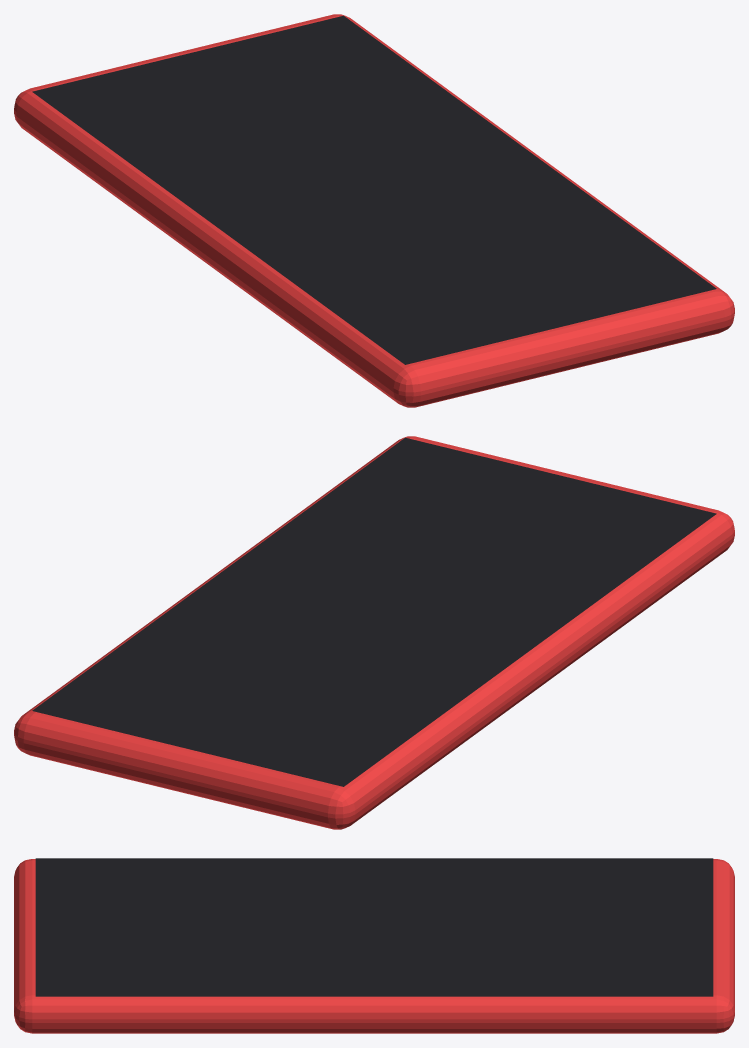
File: Phone_128.glb
The picture shows the model from 3 angles, top to bottom: view 1: azimuth 30°, elevation 25°; view 2: azimuth 150°, elevation 25°; view 3: azimuth 270°, elevation 25°; orthographic projection. The views are drawn at different scales.
Parts seen in each view (by area): view 1: Phone_Screen, Phone_Body; view 2: Phone_Screen, Phone_Body; view 3: Phone_Screen, Phone_Body.
Part boxes in pixels (box(x1,y1,x2,y2)): Phone_Screen: box(32, 15, 716, 364); Phone_Body: box(14, 14, 734, 407); Phone_Screen: box(32, 437, 716, 786); Phone_Body: box(14, 436, 734, 829); Phone_Screen: box(35, 858, 713, 996); Phone_Body: box(14, 859, 734, 1033).
Size of the model in its own units: 0.0781 by 0.009 by 0.1585.
